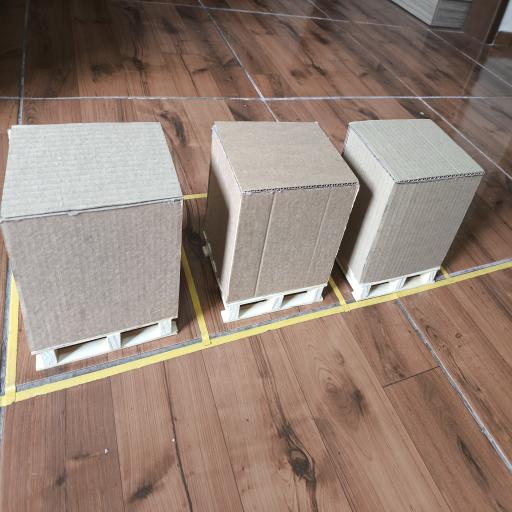pallet: (203, 234, 326, 323), (36, 319, 177, 370), (336, 257, 439, 301)
